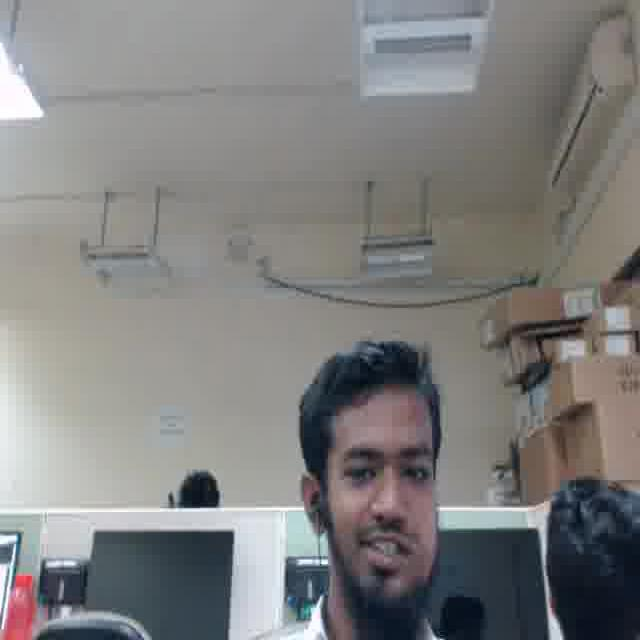Engaged: (324, 396, 439, 595)
